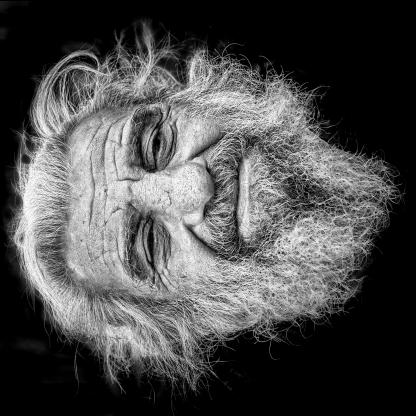Eye: (142, 214, 170, 276), (144, 116, 175, 171)
Mouth: (231, 146, 249, 237)
Nose: (148, 156, 214, 226)
